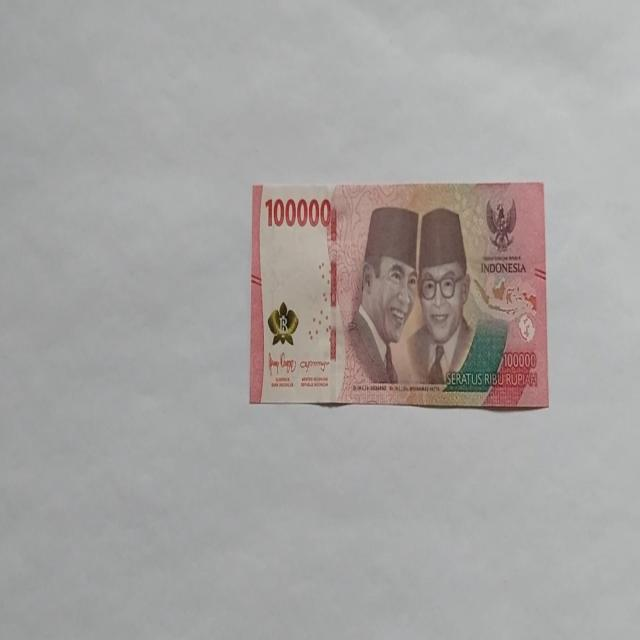seratus ribu rupiah: (248, 180, 548, 410)
